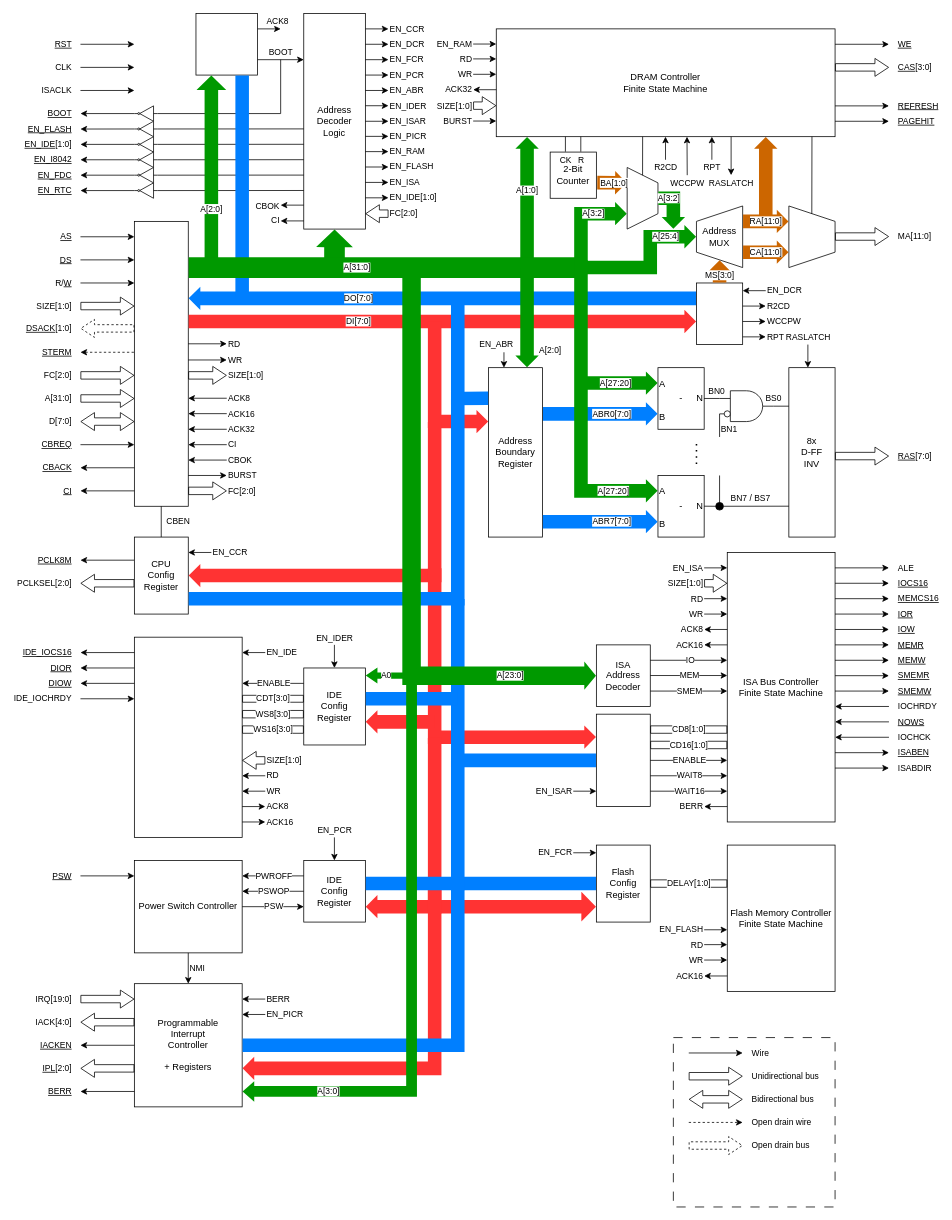
This 952x1220 diagram has some shape labels left out. The shapes that lost their labels are listed below. From the top down, each one's box as (x1, y1, x2, y2) in pixels, then its label:
(195, 13, 258, 75): Vector Injector Logic
(626, 167, 658, 229): MUX
(788, 205, 835, 268): Address DEMUX
(696, 282, 743, 345): DRAM Config Register
(134, 221, 188, 506): CPU I/F
(134, 636, 242, 837): IDE Bus Controller Finite State Machine
(596, 713, 650, 807): ISA Config Register
(673, 1037, 835, 1207): * Every registers have RD , WR , and ACK8 signals.
